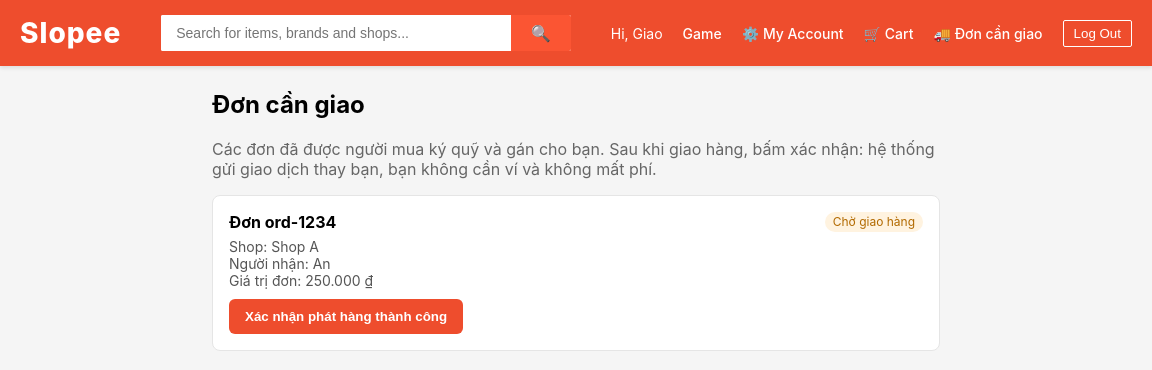
Test: ShipperOrders (UC-03) › phải bấm xác nhận HAI bước; "Chưa" quay lại mà không gọi API
This screenshot has width=1152, height=370.
Step 1. Click the button "Xác nhận phát hàng thành công" → {"x": 346, "y": 316}, box top-left (229, 299), bottom-right (463, 334)
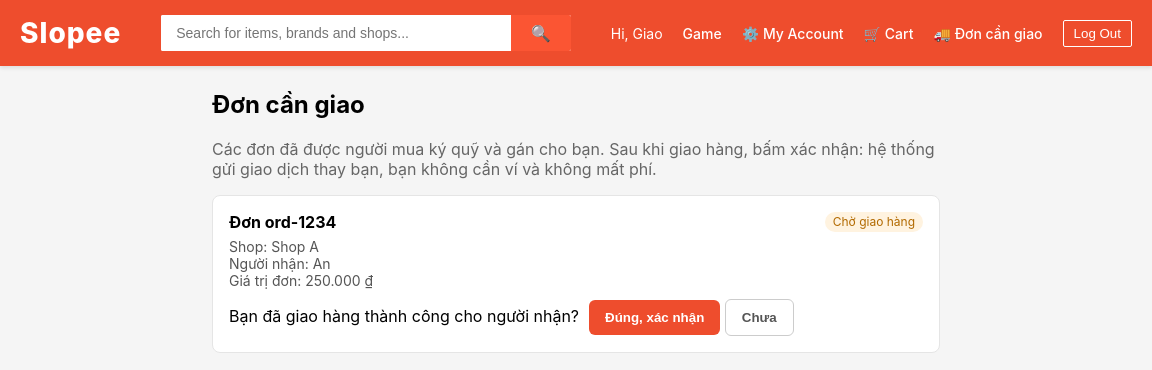
Step 2. Click the button "Chưa" → {"x": 759, "y": 317}, box top-left (725, 299), bottom-right (794, 336)
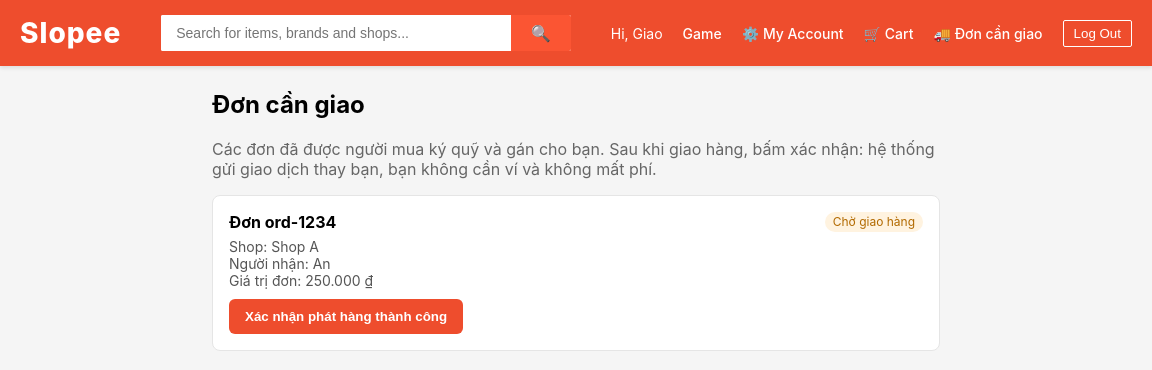
Expected: the button "Xác nhận phát hàng thành công" is shown, top-left (229, 299), bottom-right (463, 334)
